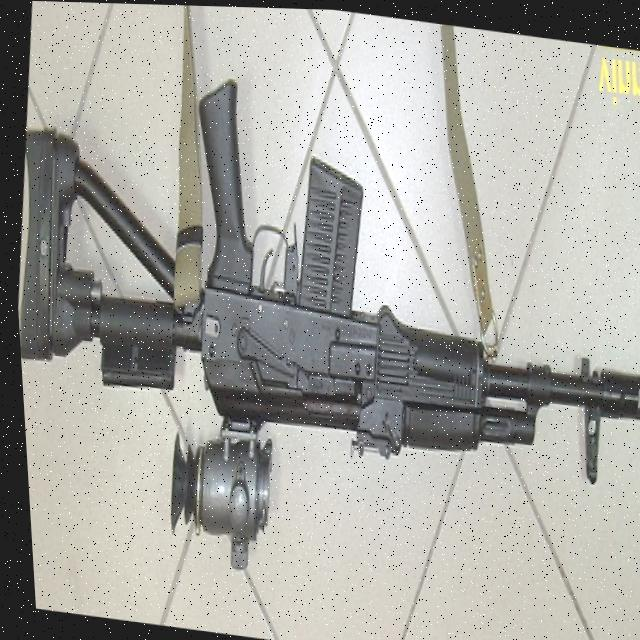firearm: (2, 50, 640, 627)
